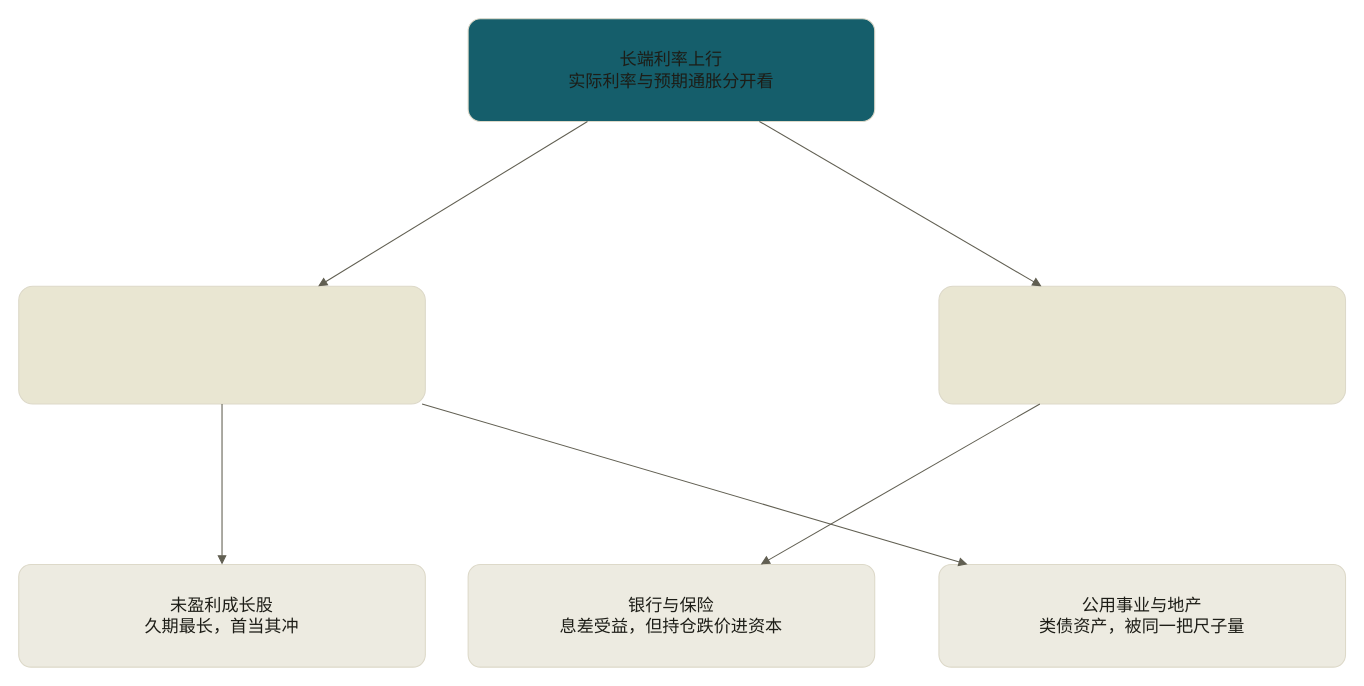
Some shapes in this 1364 by 686 pixel diagram are drawn without their labels. Here are the shapes that lost their labels. From the top down, the centre of each, then its label:
(x=221, y=344): 贴现通道 折现率抬高，长久期资产压得更多
(x=1142, y=344): 盈利通道 需求、利息支出与美元同时受影响
